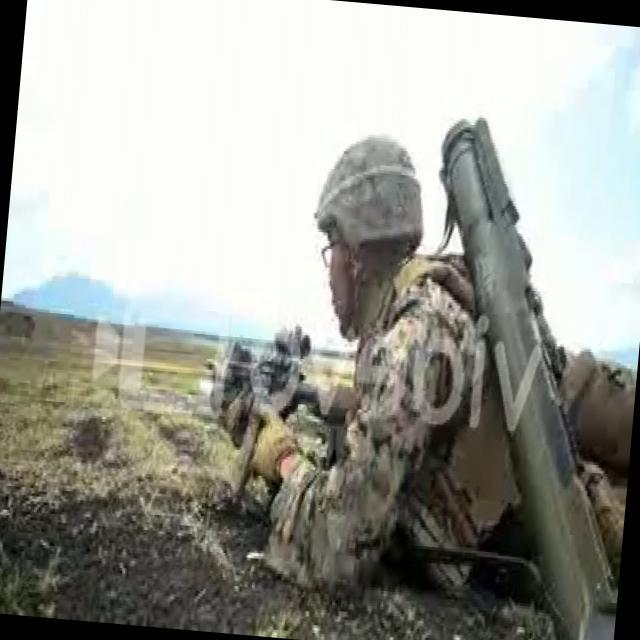rocket: (405, 117, 640, 640)
